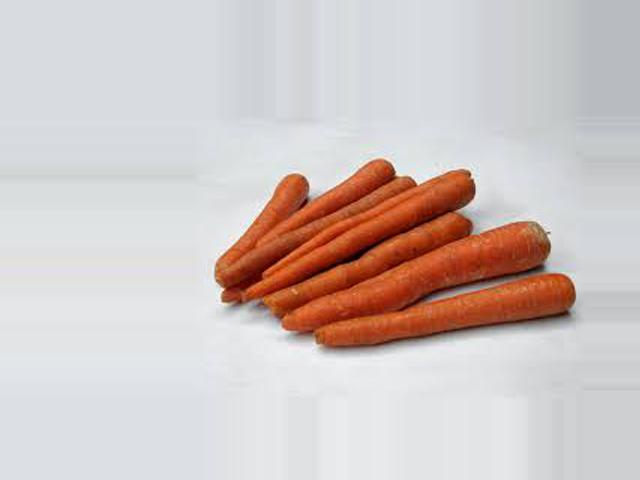carrot: (206, 151, 300, 295)
